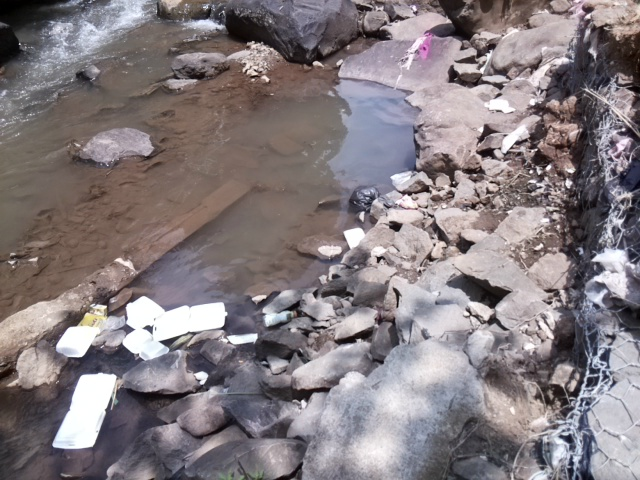Sampah_Botol_Plastik: (260, 309, 300, 327)
Sampah_Plastik: (403, 33, 435, 70), (349, 183, 382, 212)
Sampah_Styrofoam: (122, 295, 231, 361), (51, 373, 118, 452), (57, 324, 101, 359), (487, 93, 514, 114), (343, 226, 368, 248)
